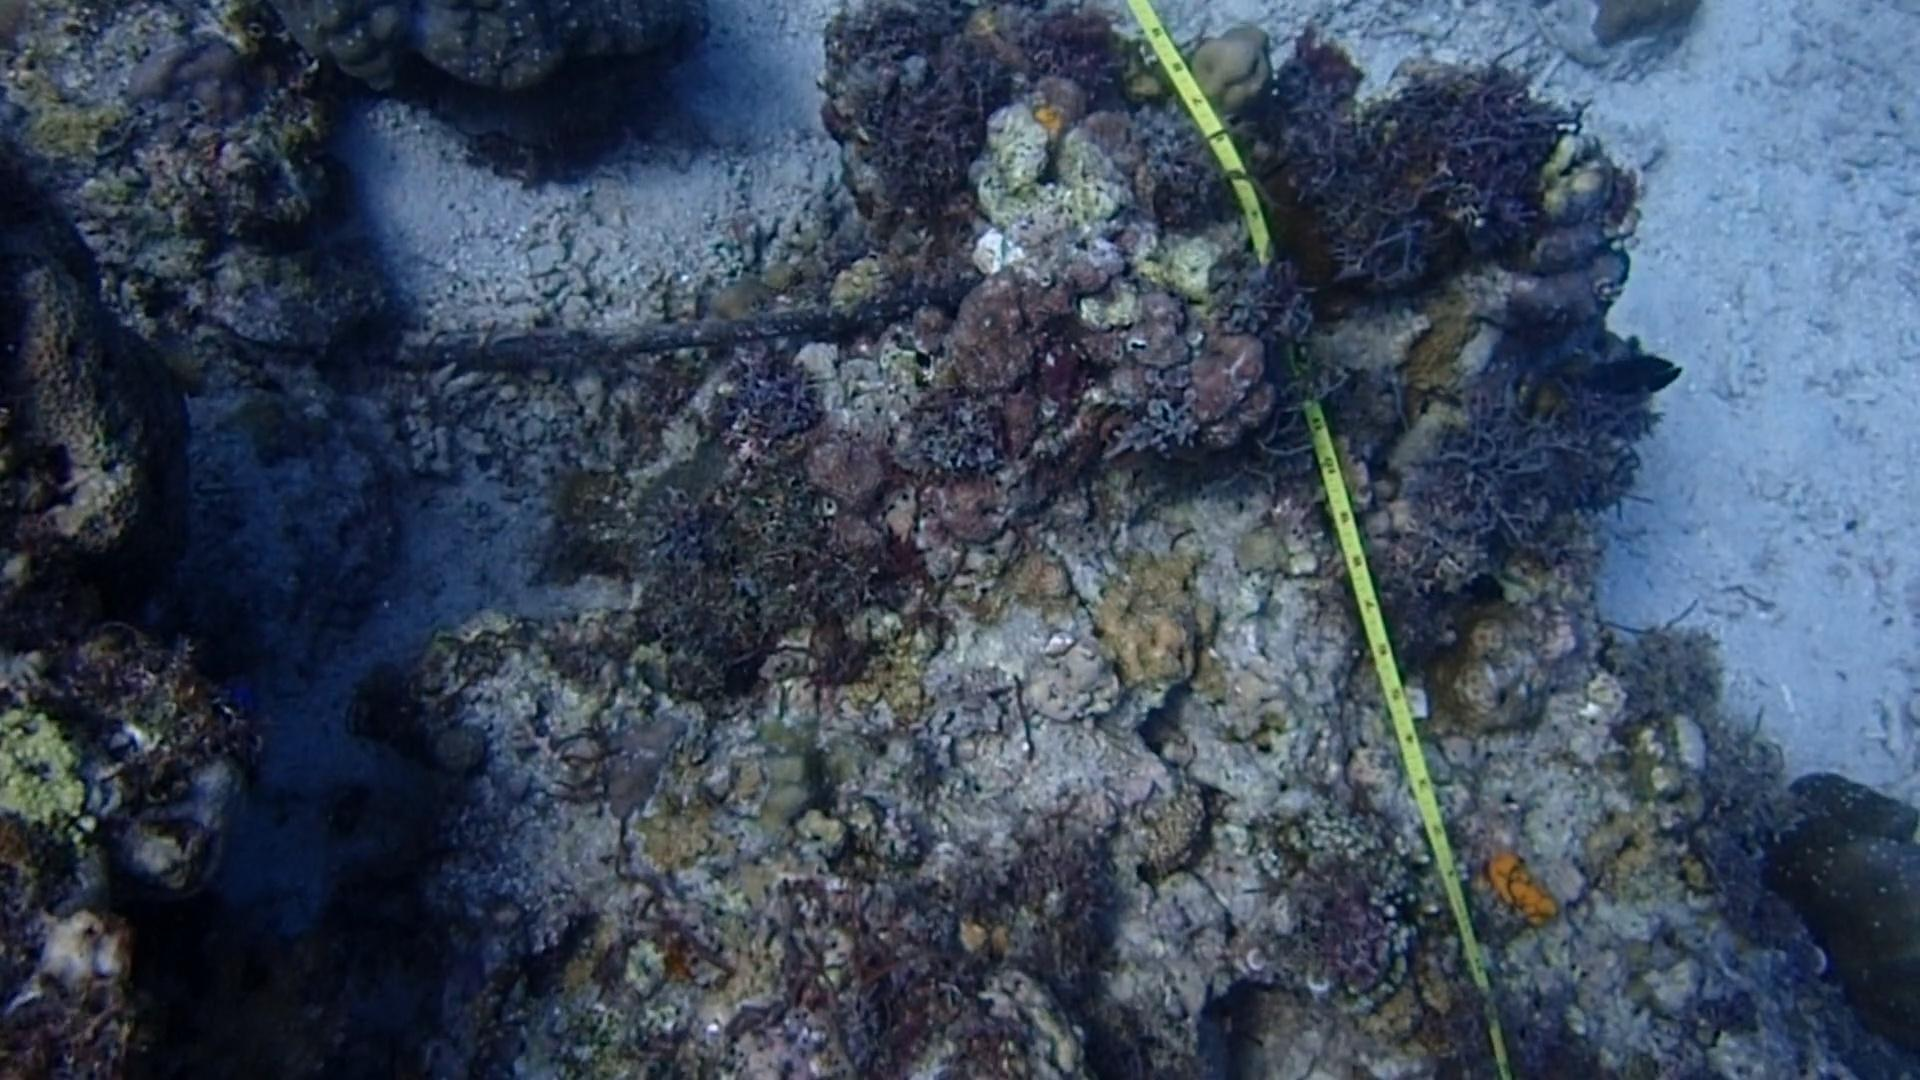Dark Fish: (1578, 345, 1692, 414)
